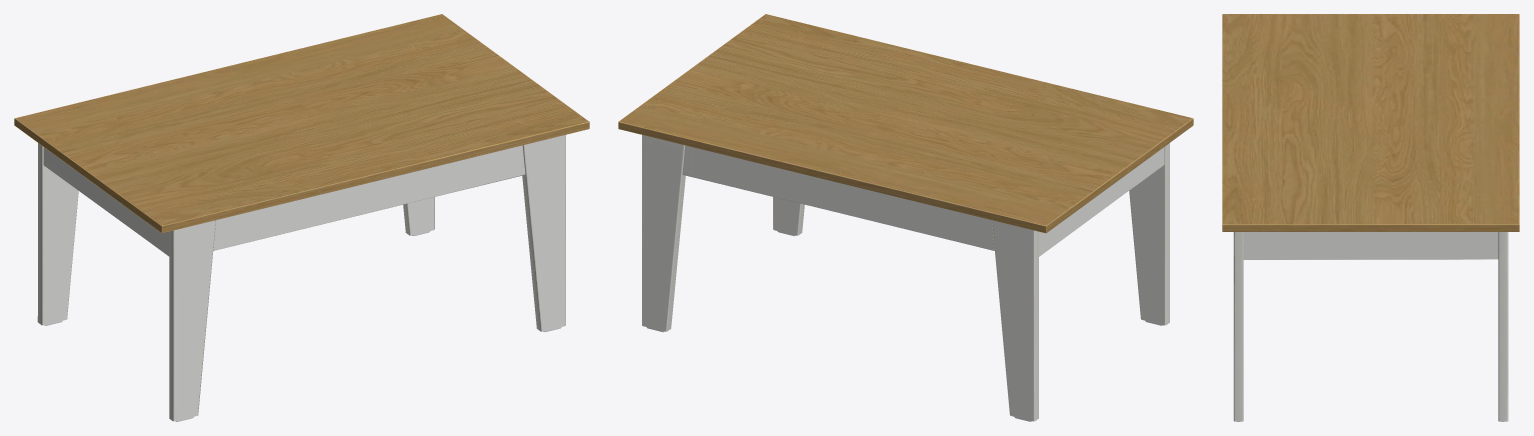
The model's file is 00609125-mini.glb.
3 renders of one model, left to right at view 1: azimuth 30°, elevation 25°; view 2: azimuth 150°, elevation 25°; view 3: azimuth 270°, elevation 25°, orthographic.
Parts seen in each view (by area): view 1: ASY_ART_00609125_S01_NV01; view 2: ASY_ART_00609125_S01_NV01; view 3: ASY_ART_00609125_S01_NV01.
Part boxes in pixels (left/top/right/bottom): ASY_ART_00609125_S01_NV01: left=14, top=14, right=589, bottom=421; ASY_ART_00609125_S01_NV01: left=618, top=14, right=1193, bottom=421; ASY_ART_00609125_S01_NV01: left=1222, top=14, right=1519, bottom=421.
Size of the model in its own units: 0.9801 by 0.4513 by 0.585.
1 material, 1 textured.
